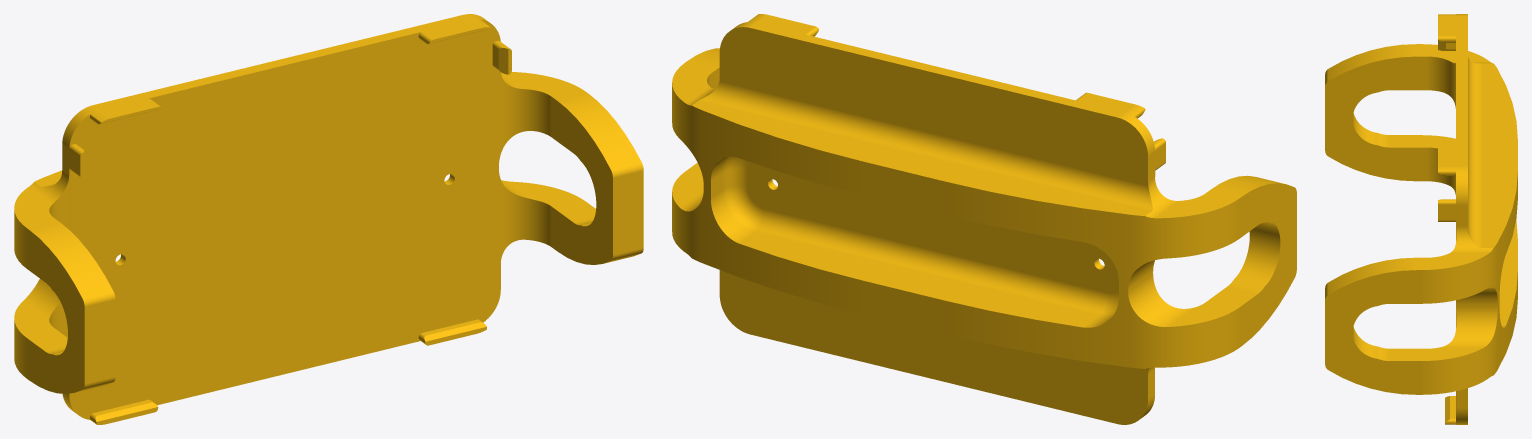
Rendered from VS1_SIMPLE_006_vspin_bucket.gltf.
3 views of the same model, side by side, from view 1: azimuth 30°, elevation 25°; view 2: azimuth 150°, elevation 25°; view 3: azimuth 270°, elevation 25° (orthographic). The views are drawn at different scales.
Parts seen in each view (by area): view 1: mesh213, mesh114, mesh149, mesh198, mesh119, mesh153, mesh111, mesh103, mesh151, mesh115, mesh104, mesh143 (+5 smaller); view 2: mesh175, mesh136, mesh77, mesh127, mesh97, mesh125, mesh80, mesh126, mesh94, mesh149, mesh132, mesh130 (+15 smaller); view 3: mesh150, mesh113, mesh126, mesh125, mesh101, mesh102, mesh198, mesh99, mesh97, mesh94, mesh153, mesh111 (+14 smaller).
Boxes of the visible parts, x1,y1,x2,y2 form: mesh213: (69, 19, 500, 419); mesh114: (551, 97, 612, 264); mesh149: (27, 228, 84, 393); mesh198: (93, 15, 480, 118); mesh119: (499, 172, 551, 300); mesh153: (30, 222, 112, 298); mesh111: (558, 93, 641, 169); mesh103: (499, 71, 551, 161); mesh151: (84, 300, 115, 383); mesh115: (613, 171, 643, 255); mesh104: (515, 182, 595, 222); mesh143: (14, 302, 67, 351); mesh175: (719, 27, 1148, 185); mesh136: (719, 270, 1148, 424); mesh77: (747, 162, 1118, 293); mesh127: (944, 181, 1132, 367); mesh97: (700, 110, 863, 314); mesh125: (699, 81, 1152, 211); mesh80: (756, 209, 1107, 315); mesh126: (692, 101, 1151, 215); mesh94: (740, 231, 1098, 327); mesh149: (1239, 183, 1296, 347); mesh132: (1132, 307, 1239, 368); mesh130: (1132, 198, 1239, 274); mesh150: (1325, 56, 1426, 181); mesh113: (1325, 270, 1420, 394); mesh126: (1482, 63, 1517, 247); mesh125: (1468, 57, 1482, 247); mesh101: (1420, 322, 1496, 394); mesh102: (1420, 244, 1496, 303); mesh198: (1438, 16, 1467, 166); mesh99: (1439, 306, 1497, 347); mesh97: (1497, 173, 1517, 370); mesh94: (1499, 220, 1517, 324); mesh153: (1328, 44, 1416, 80); mesh111: (1328, 257, 1416, 294).
Size of the model in its own units: 0.1727 by 0.0912 by 0.0622.
